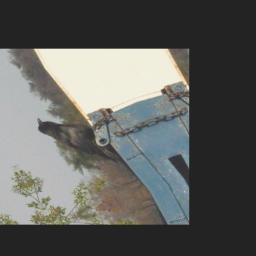Crow: (31, 102, 121, 178)
